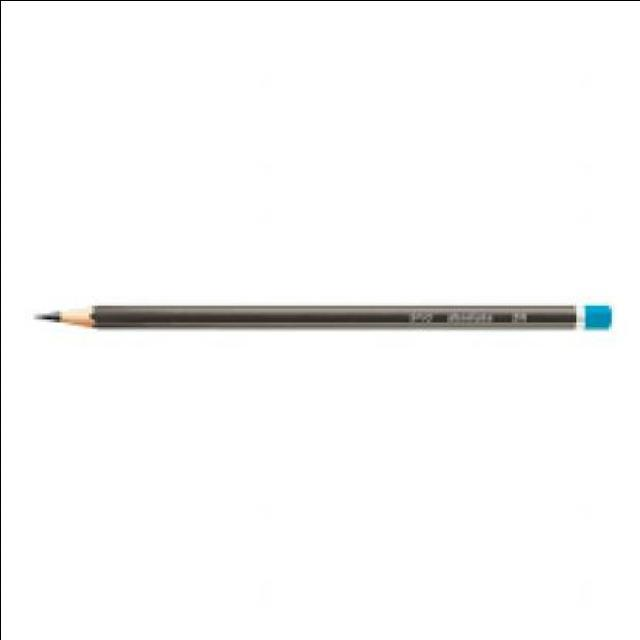Pencil: (24, 282, 114, 347)
